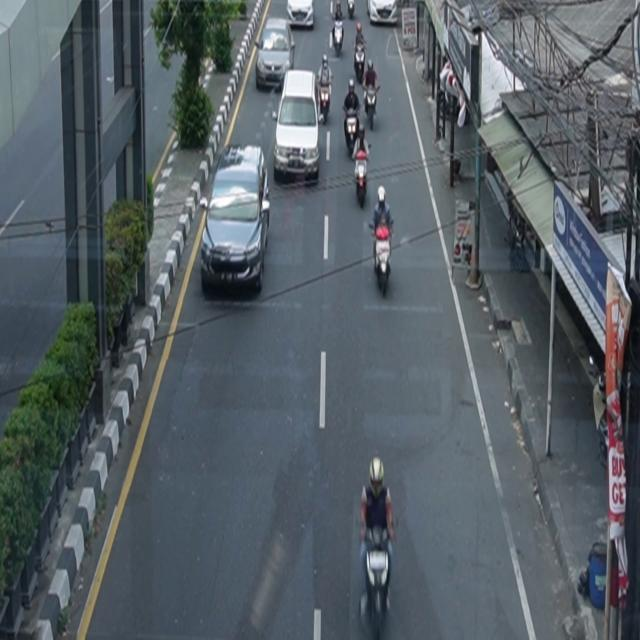car: (200, 144, 271, 295), (273, 70, 322, 185), (256, 18, 297, 92)
